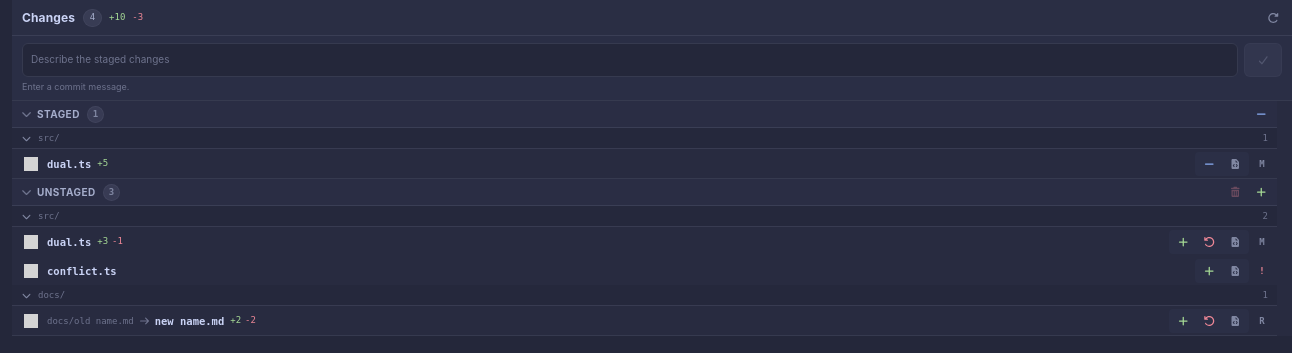
Test case: InspectorChangesPanel › collapses and expands files within one directory independently
Expected: the element named "Review changes for src/dual.ts (unstaged)" is shown, 12,206 -> 1277,285
Click the button with aria-label "Collapse src/".
click(26, 216)  # box 12,206 -> 1277,227
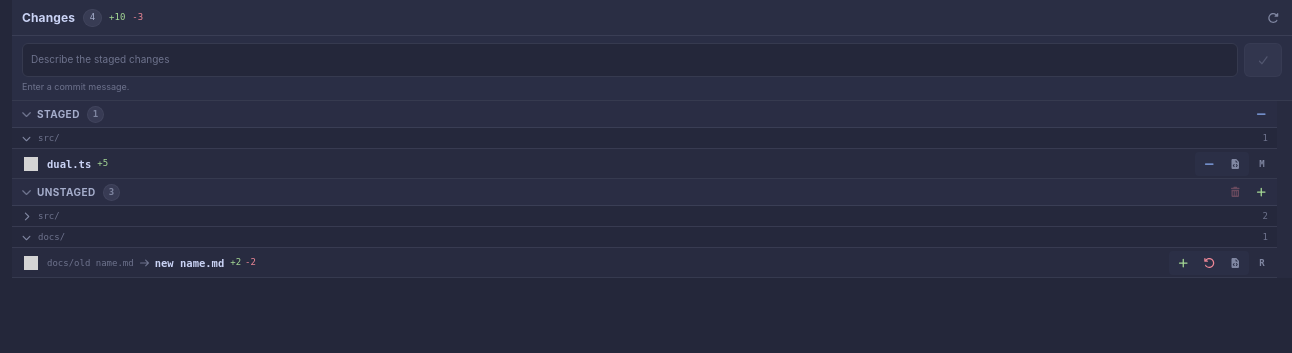
Expected: the button with aria-label "Review changes for src/dual.ts (staged)" is shown, 12,149 -> 1277,178
Now the button with aria-label "Expand src/" is collapsed
Click the button with aria-label "Expand src/".
click(26, 216)  # box 12,206 -> 1277,227
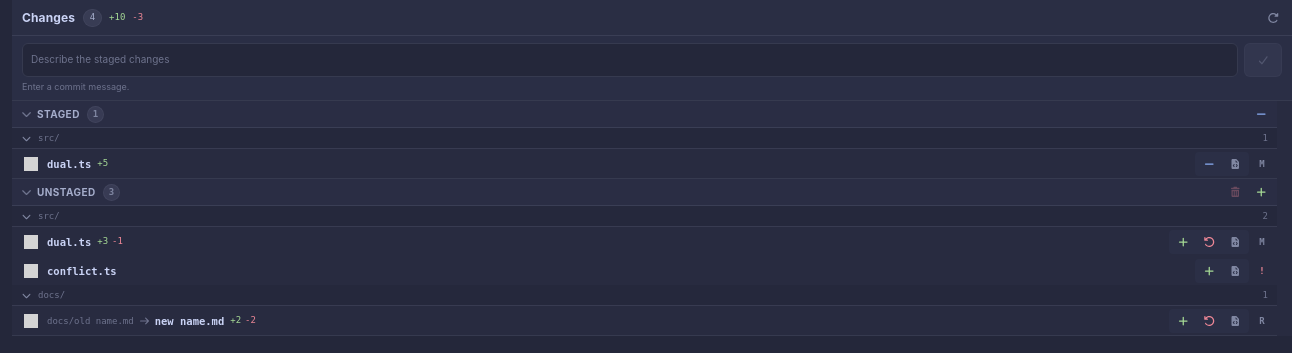
Now the button with aria-label "Review changes for src/dual.ts (unstaged)" is shown, box 12,227 -> 1277,256
